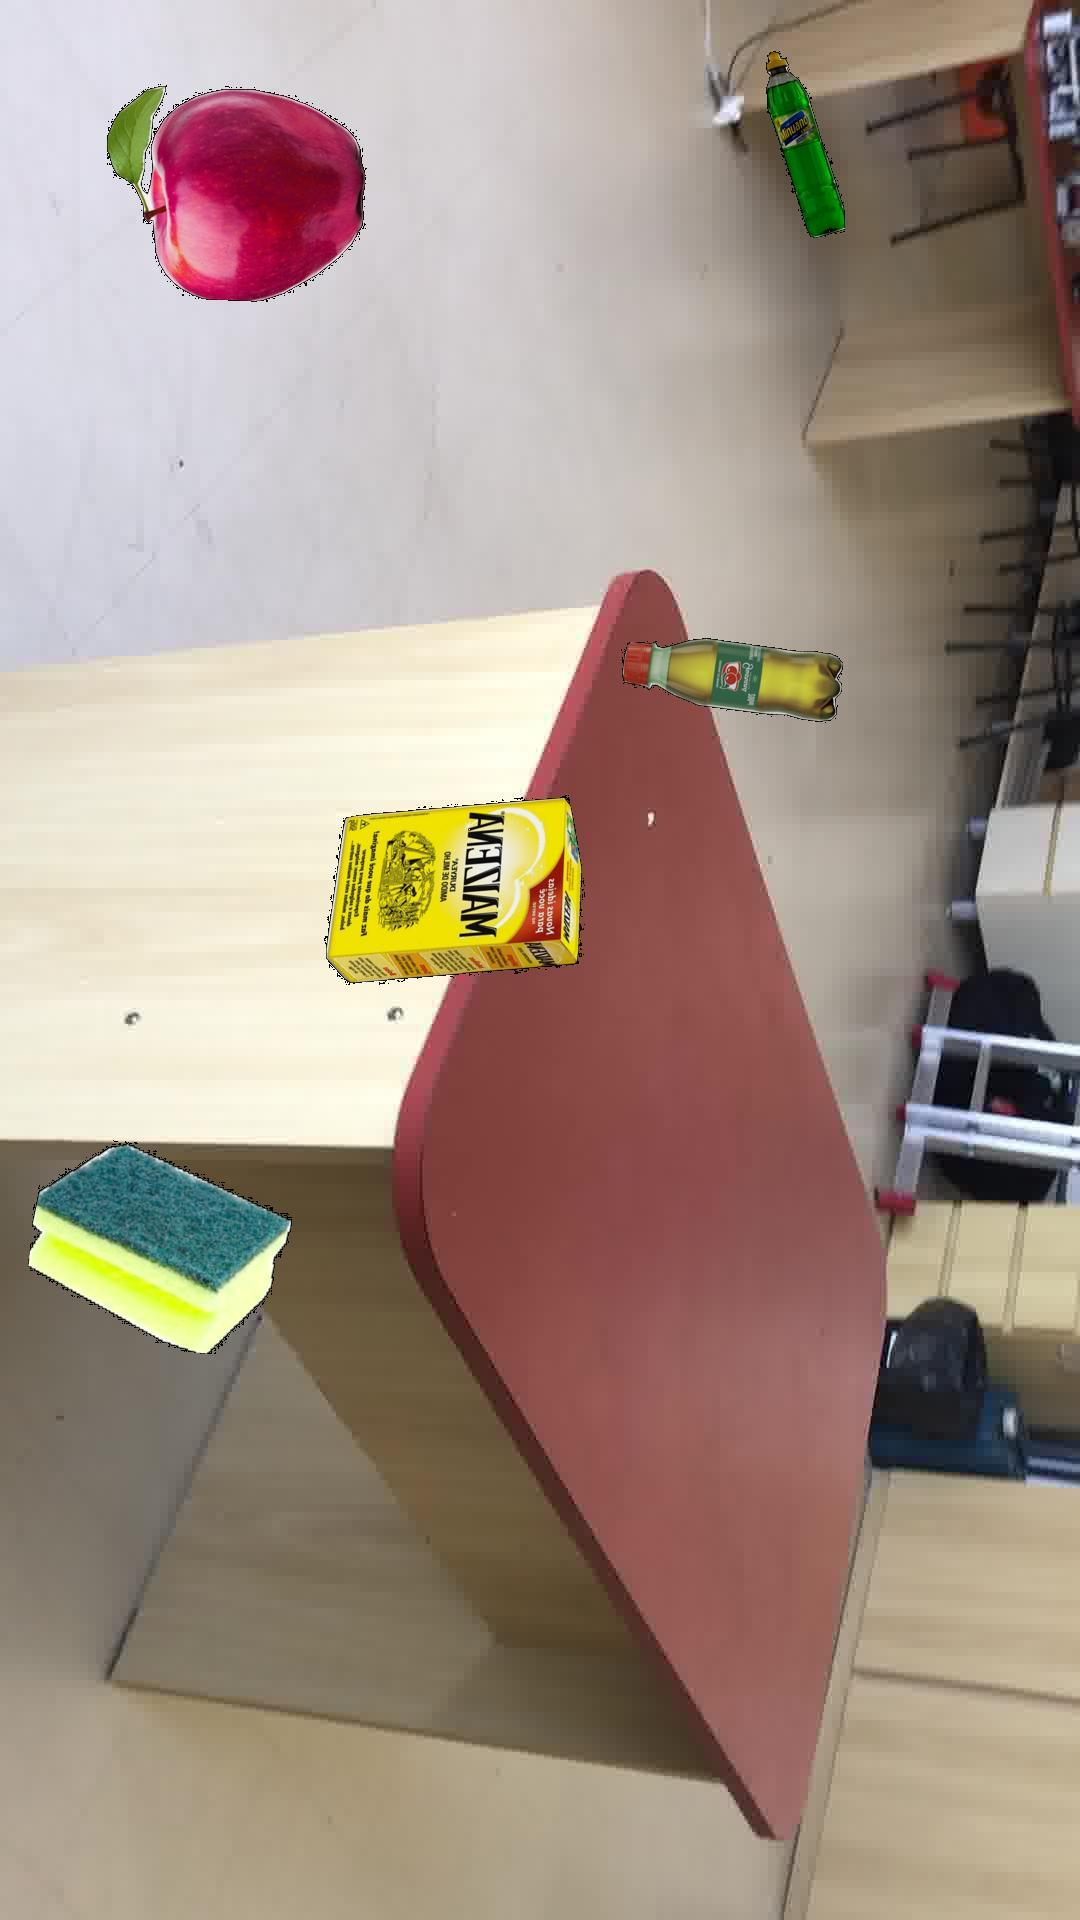apple: (105, 84, 364, 301)
cleaner: (765, 50, 844, 236)
guarana: (621, 637, 841, 720)
sponge: (26, 1139, 290, 1353)
